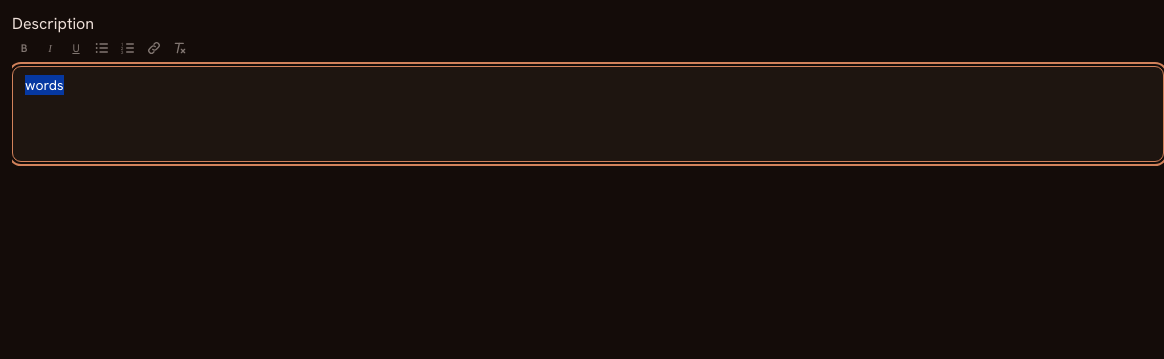
Test: DescriptionEditor › the_link_panel_closes_when_a_save_starts
The width and height of the screenshot is (1164, 359).
Click the button named "Link": click(154, 48) 142,36 -> 166,60
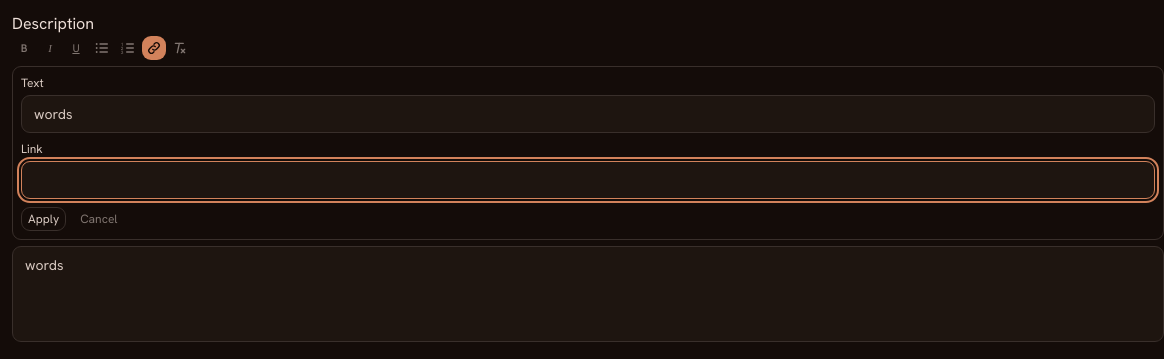
Result: the field labelled "Link" is shown at 21,161 -> 1155,199
